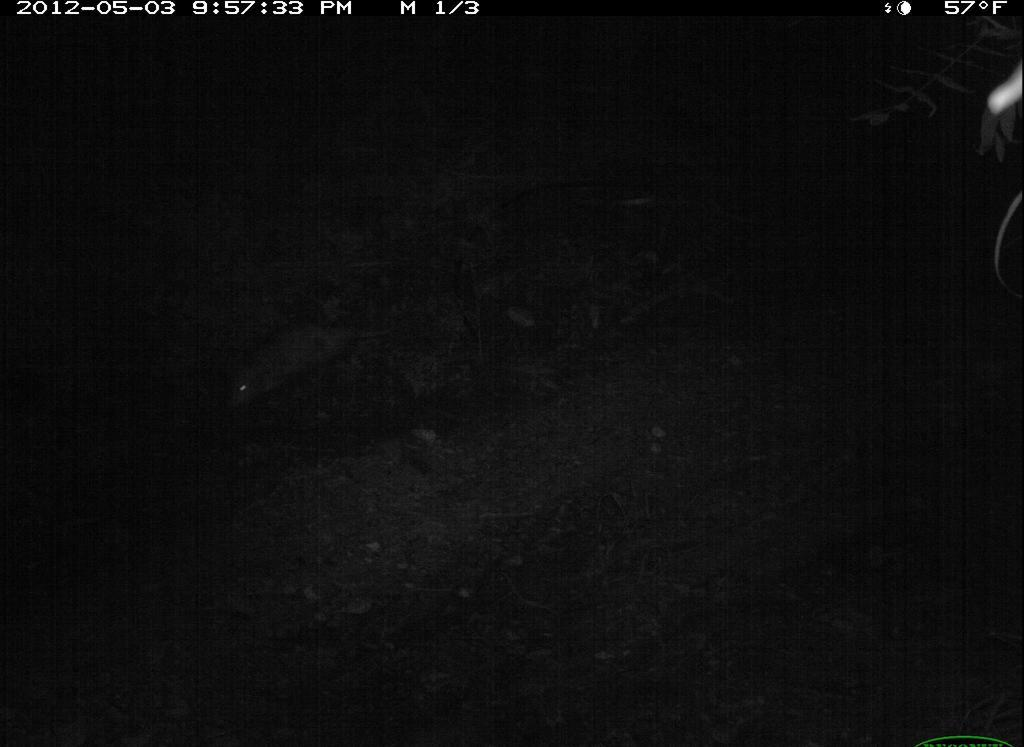opossum: (218, 305, 424, 423)
